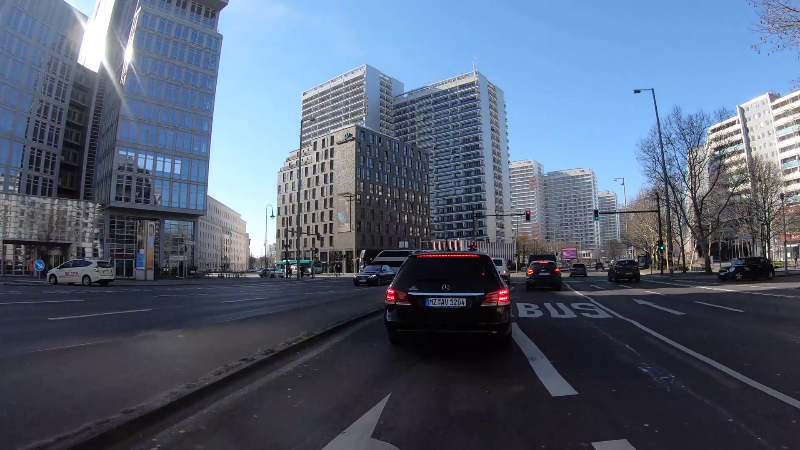Plate: (423, 296, 468, 308)
